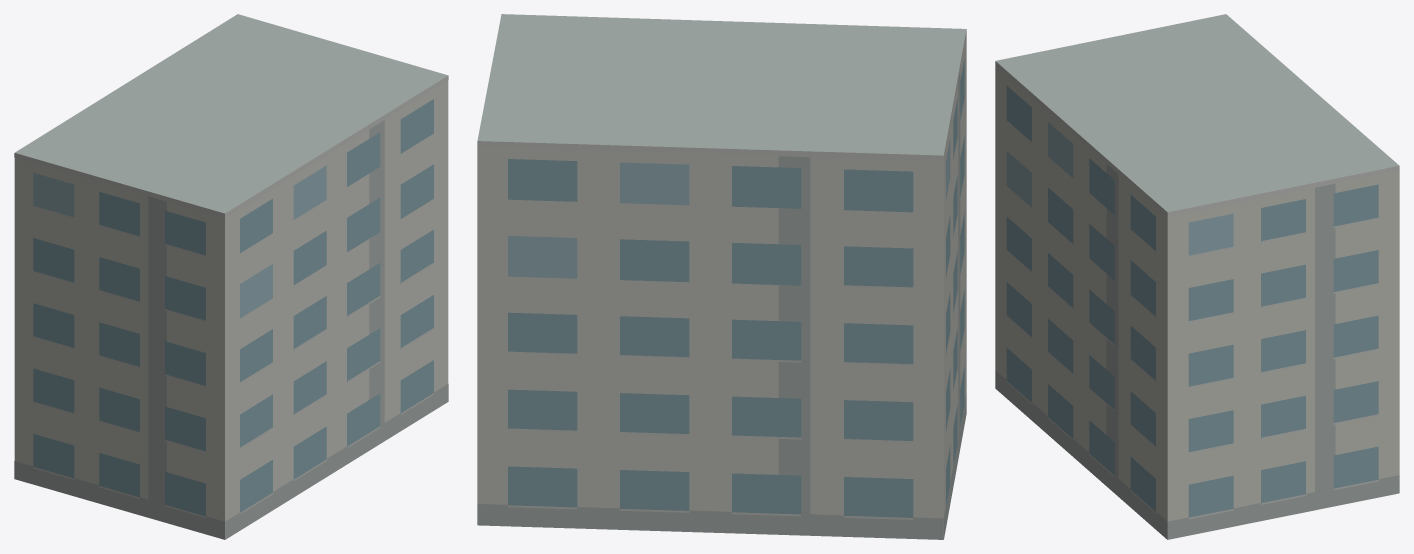
The model's file is survey-upis-32697206.glb.
3 views of the same model, side by side, from view 1: azimuth 30°, elevation 25°; view 2: azimuth 150°, elevation 25°; view 3: azimuth 270°, elevation 25° (orthographic). The views are drawn at different scales.
Parts seen in each view (by area): view 1: survey-upis-32697206.tmp; view 2: survey-upis-32697206.tmp; view 3: survey-upis-32697206.tmp.
Part boxes in pixels (bbox=[...]): survey-upis-32697206.tmp: bbox=[14, 14, 448, 539]; survey-upis-32697206.tmp: bbox=[477, 14, 966, 539]; survey-upis-32697206.tmp: bbox=[995, 14, 1399, 539].
Size of the model in its own units: 20.84 by 16.05 by 17.96.
